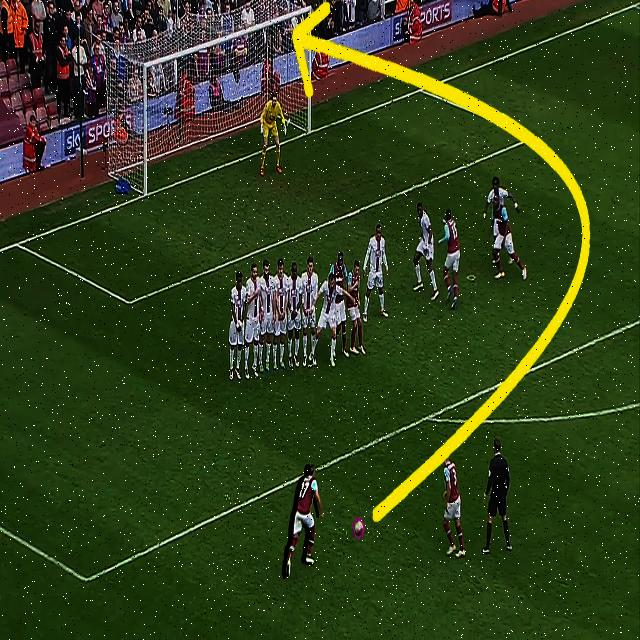free-kick: (225, 254, 322, 382)
